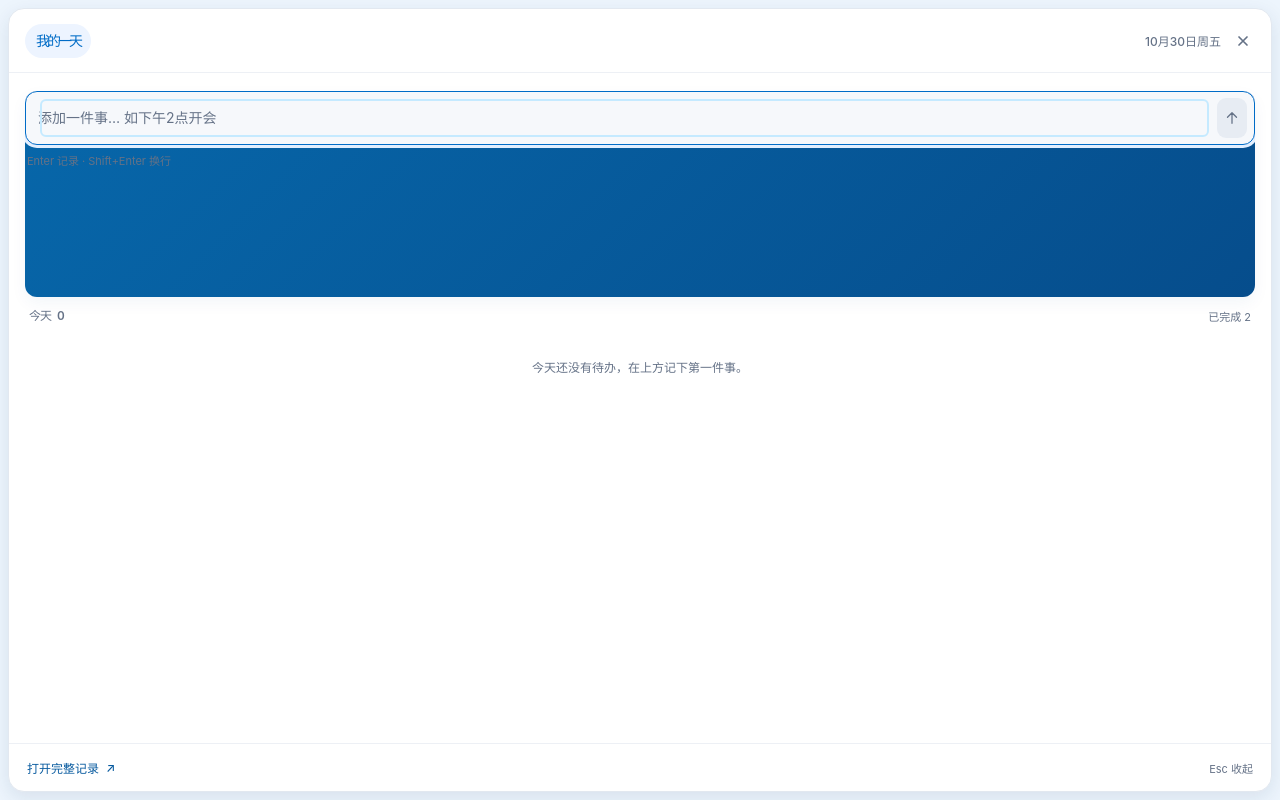
Test: TodayPanelApp › retains the intake for a failed parse and supports retry and conversion
Type "保留原文" into the text box at [624, 118], box [38,97,1211,139]
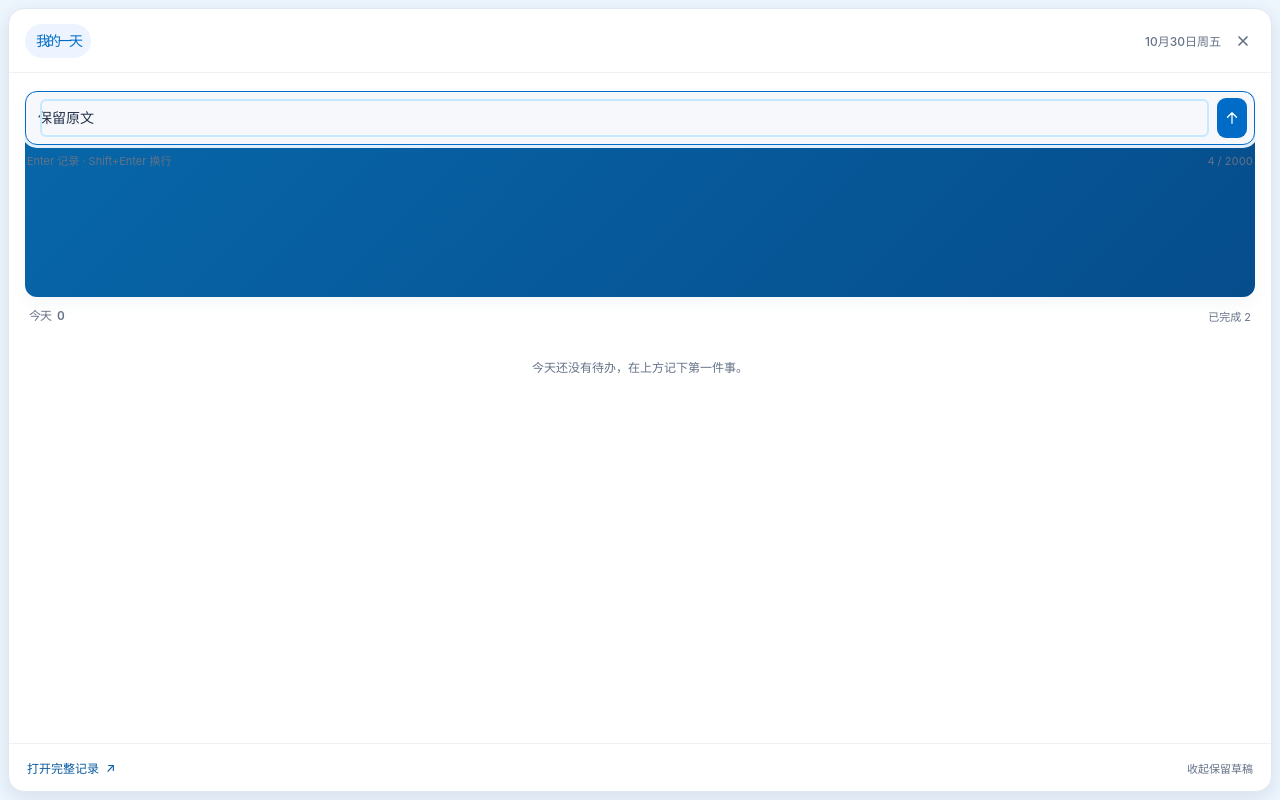
Click the button named "记录" at [1232, 118], box [1217,98,1247,138]
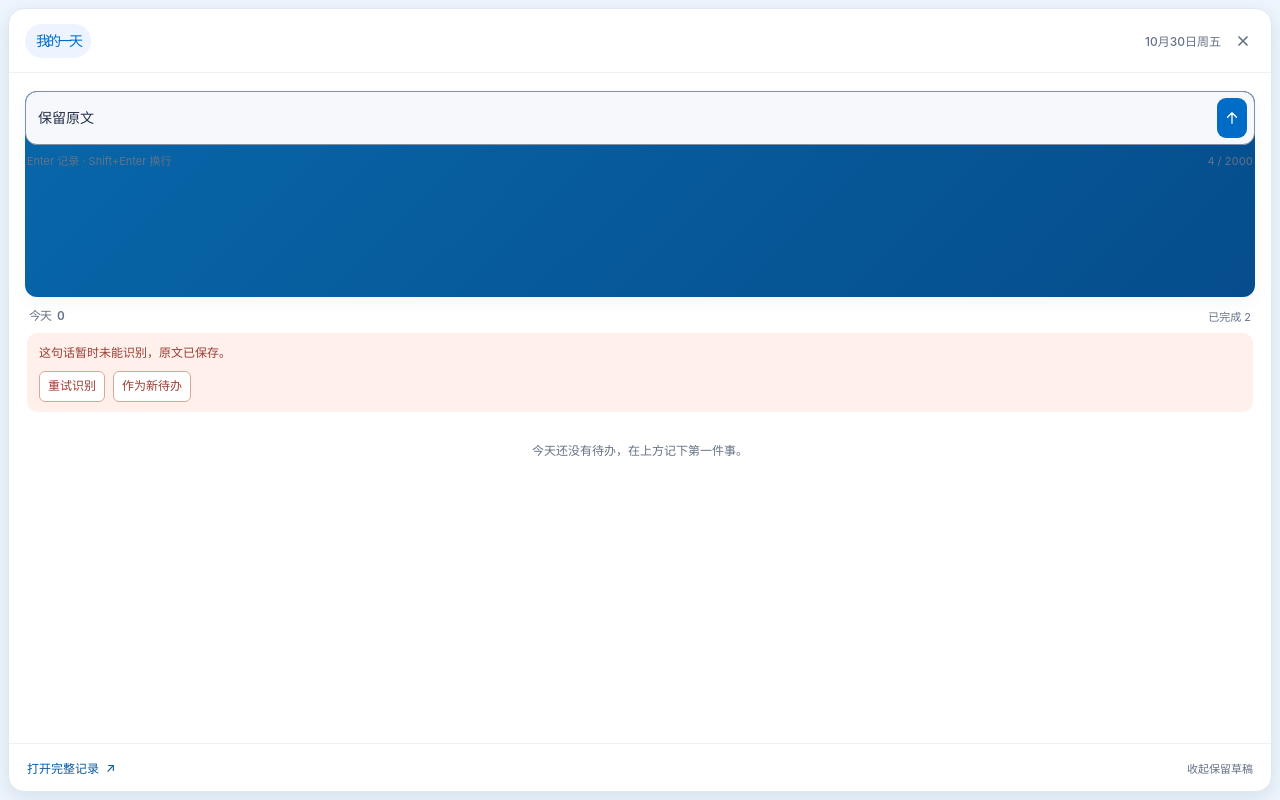
Result: the text "这句话暂时未能识别，原文已保存。" is shown at [39,345,231,360]
Click the button "重试识别" at [72, 387], box [39,371,105,402]
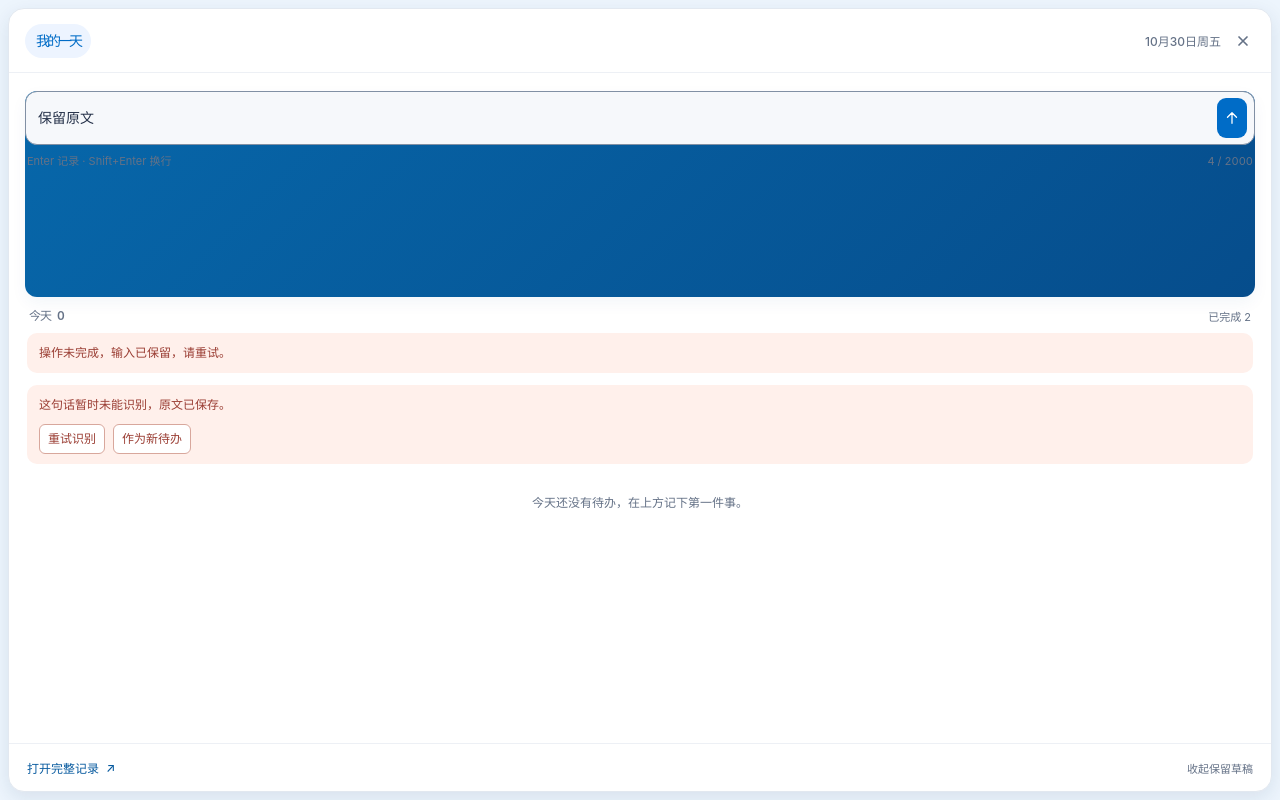
Result: the message shows "输入已保留" at [39,345,231,360]
Click the button "作为新待办" at [152, 439], box [113,424,191,454]
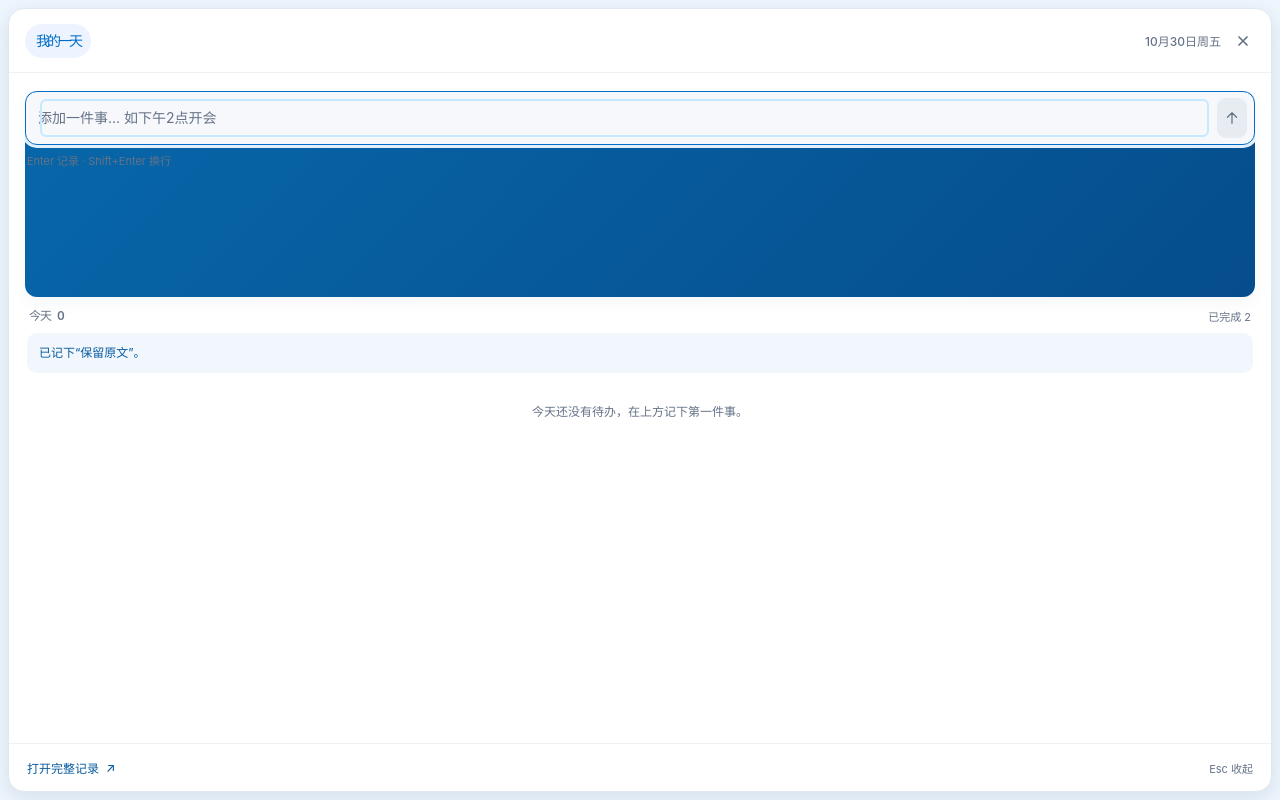
Result: the text "已记下“保留原文”。" is shown at [27,333,1253,373]
